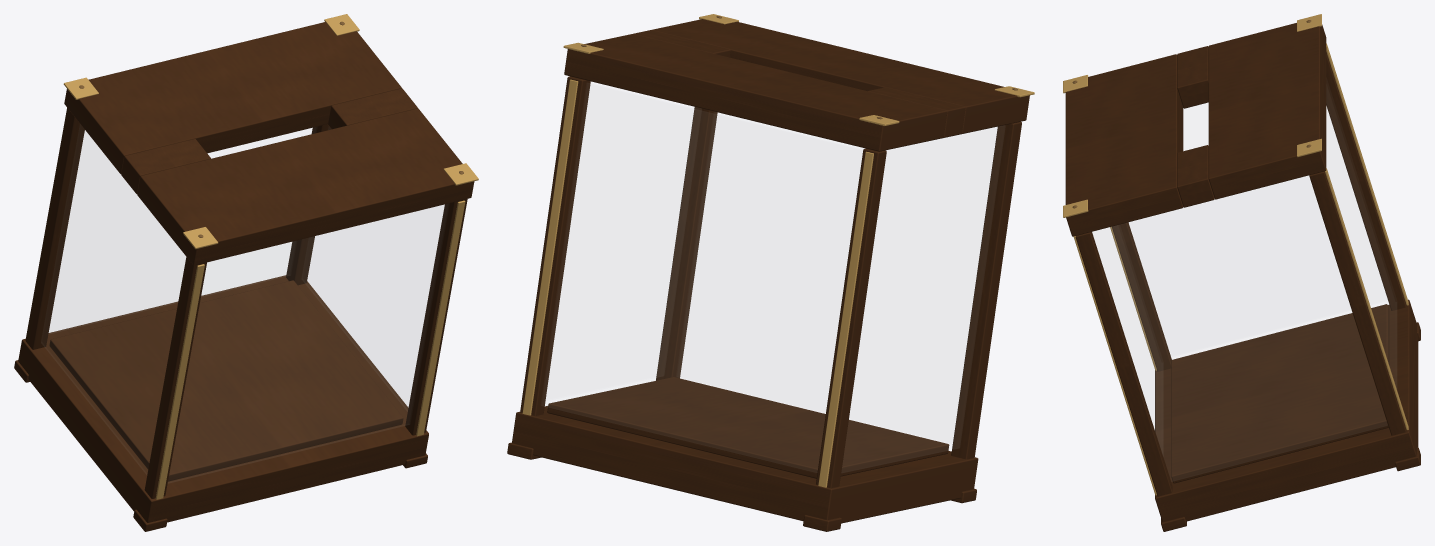
Rendered from ballot_box-default.glb.
3 renders of one model, left to right at view 1: azimuth 30°, elevation 25°; view 2: azimuth 150°, elevation 25°; view 3: azimuth 270°, elevation 25°, orthographic. The views are drawn at different scales.
Visible parts, largest first — view 1: ballot_box-default__Dark_stained_oak_actual_grain, ballot_box-default__Accepted_bottle-style_clear_PBR_glass, ballot_box-default__Brass_aged_warm_metal; view 2: ballot_box-default__Accepted_bottle-style_clear_PBR_glass, ballot_box-default__Dark_stained_oak_actual_grain, ballot_box-default__Brass_aged_warm_metal; view 3: ballot_box-default__Dark_stained_oak_actual_grain, ballot_box-default__Accepted_bottle-style_clear_PBR_glass, ballot_box-default__Brass_aged_warm_metal.
Boxes of the visible parts, bbox=[...] form: ballot_box-default__Dark_stained_oak_actual_grain: bbox=[14, 22, 474, 531]; ballot_box-default__Accepted_bottle-style_clear_PBR_glass: bbox=[49, 131, 443, 411]; ballot_box-default__Brass_aged_warm_metal: bbox=[63, 14, 478, 499]; ballot_box-default__Accepted_bottle-style_clear_PBR_glass: bbox=[546, 84, 996, 443]; ballot_box-default__Dark_stained_oak_actual_grain: bbox=[507, 19, 1029, 531]; ballot_box-default__Brass_aged_warm_metal: bbox=[522, 14, 1034, 487]; ballot_box-default__Dark_stained_oak_actual_grain: bbox=[1065, 23, 1420, 531]; ballot_box-default__Accepted_bottle-style_clear_PBR_glass: bbox=[1093, 110, 1386, 452]; ballot_box-default__Brass_aged_warm_metal: bbox=[1063, 14, 1408, 495].
Size of the model in its own units: 0.285 by 0.3753 by 0.3177.
4 materials, 1 textured.
